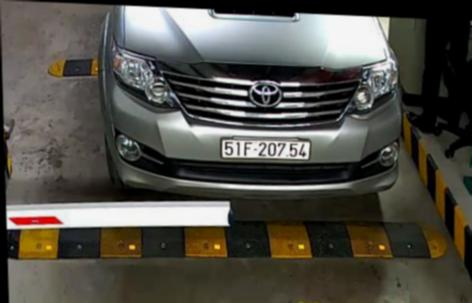License_Plate: (221, 135, 310, 165)
